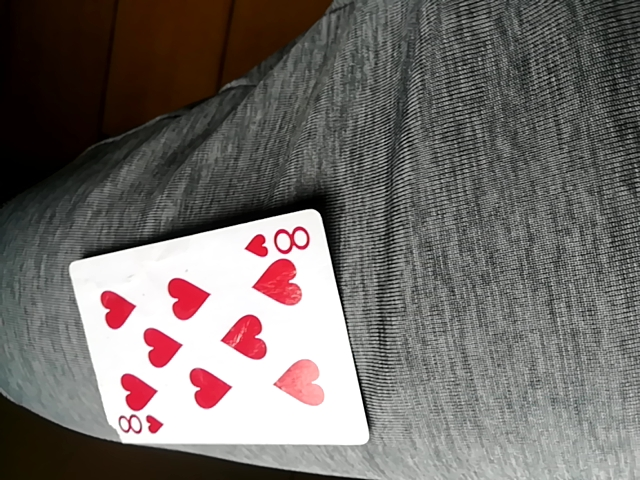hx 8: (66, 211, 364, 448)
